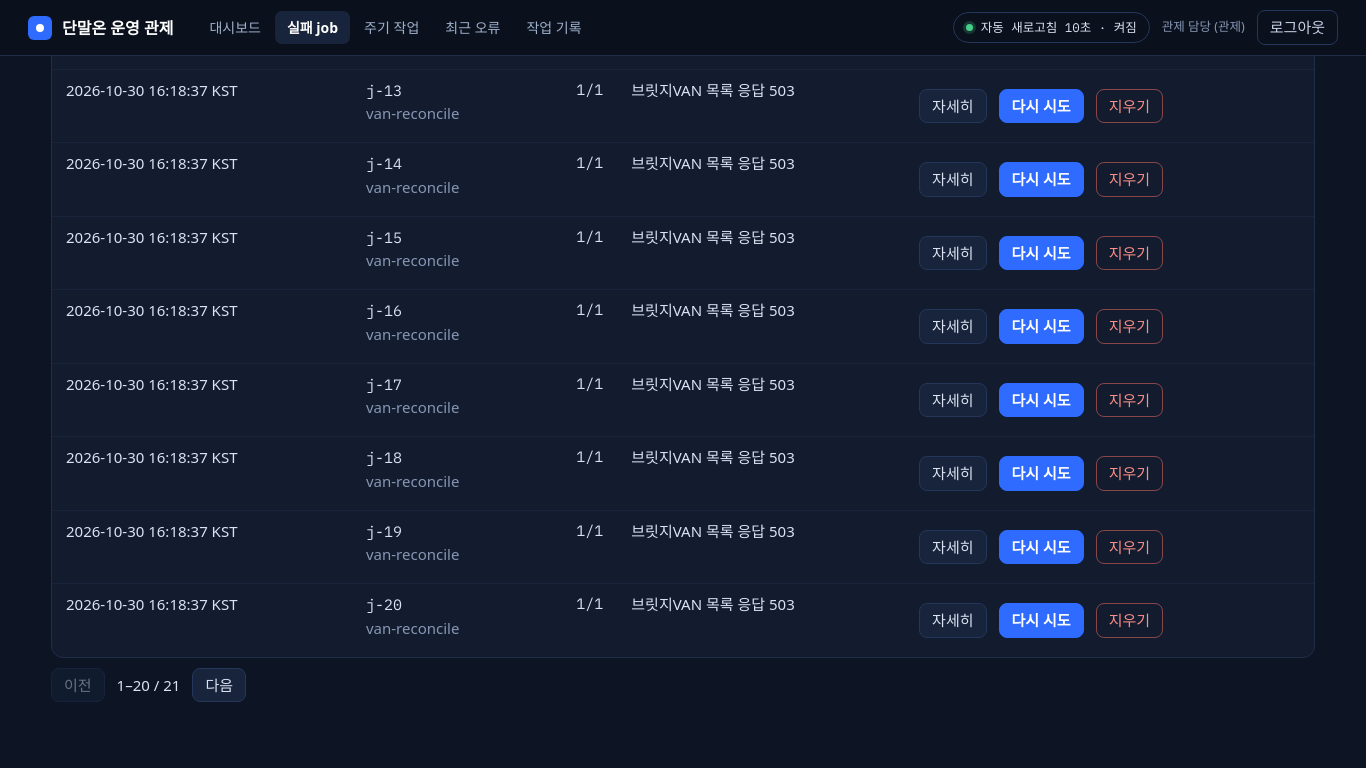
실패 job (보강 6, decisions/0072) › 둘째 쪽의 마지막 job을 지워 쪽이 비면 앞 쪽으로 옮긴다(최종 리뷰 Minor 2)
(page scrolled)
Expected: the text "1–20 / 21" is shown, [117,674,180,696]
Click the button "다음": (219, 685) [192,668,246,702]
(page scrolled)
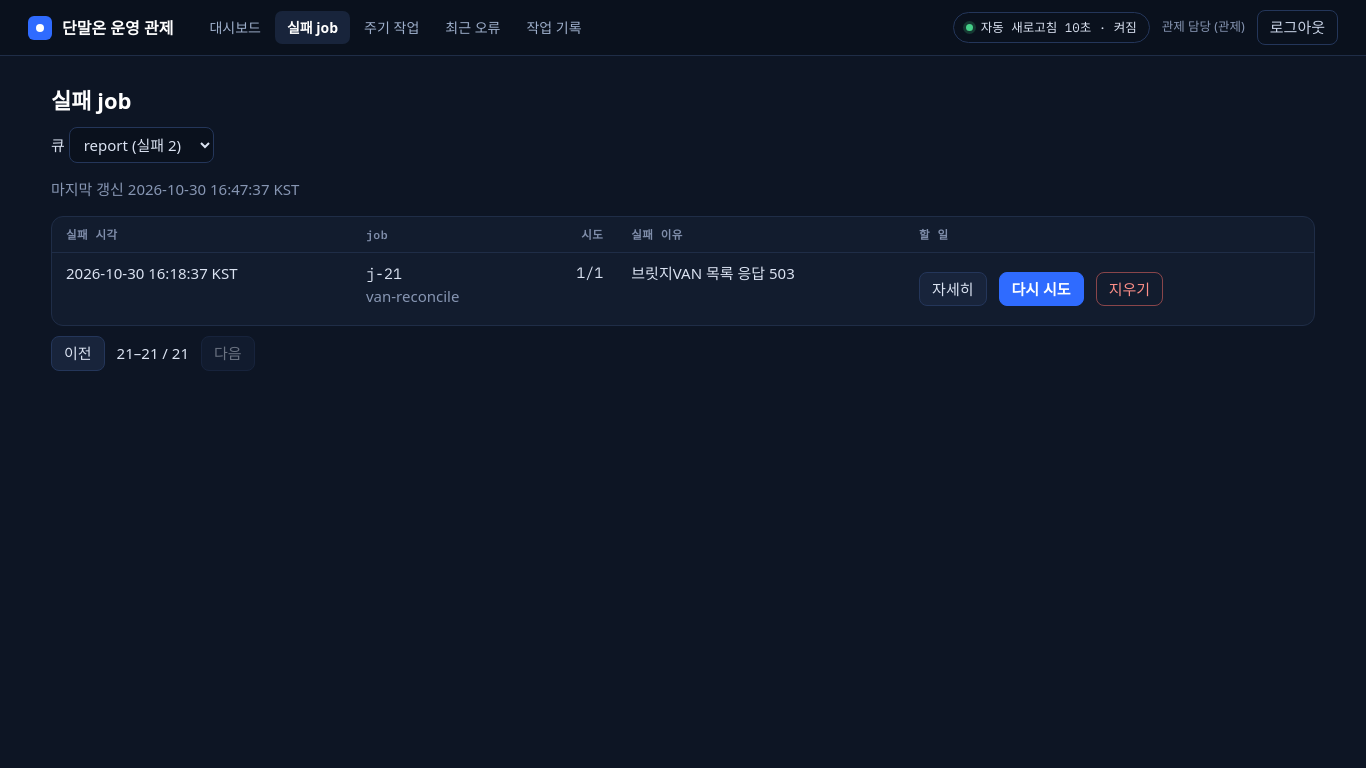
Click the button "지우기": (1129, 289) [1096,272,1163,306]
(page scrolled)
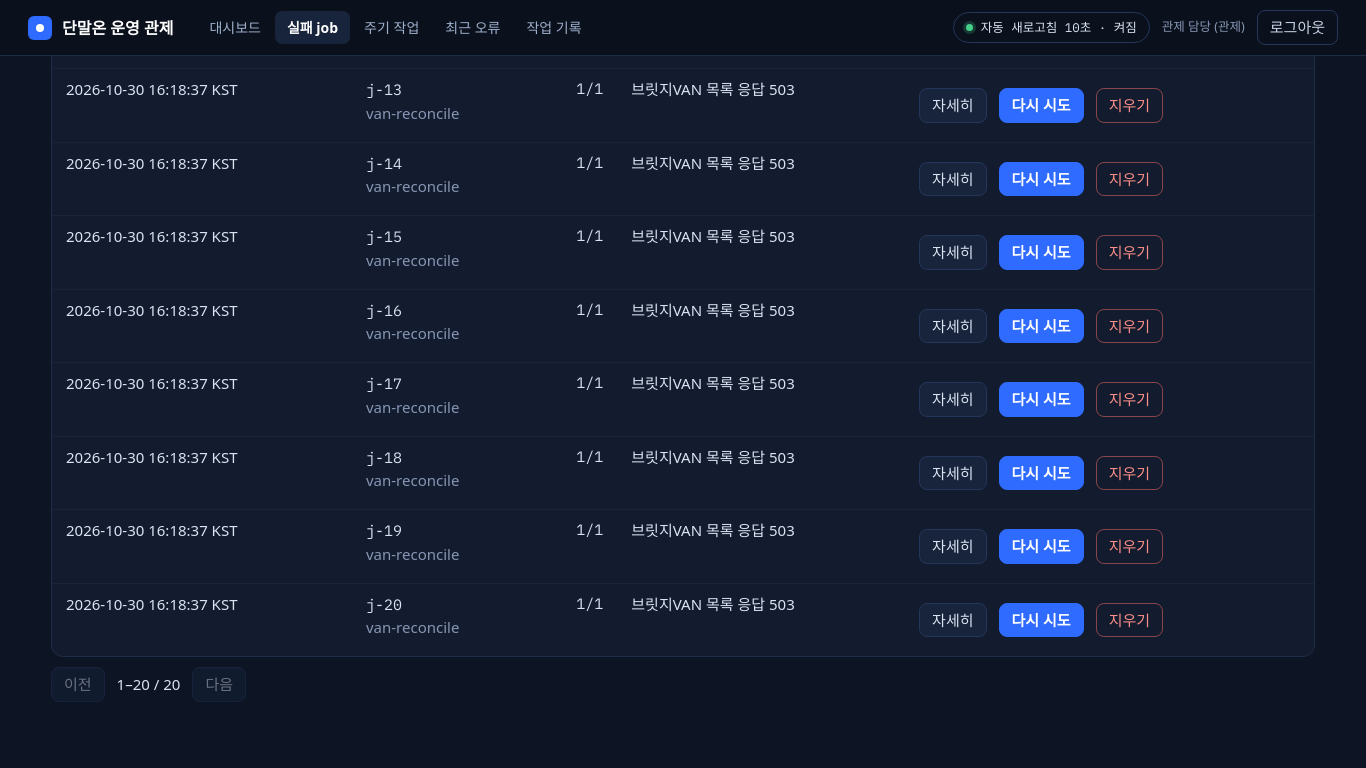
Expected: the text "1–20 / 20" is shown, [117,673,180,696]
